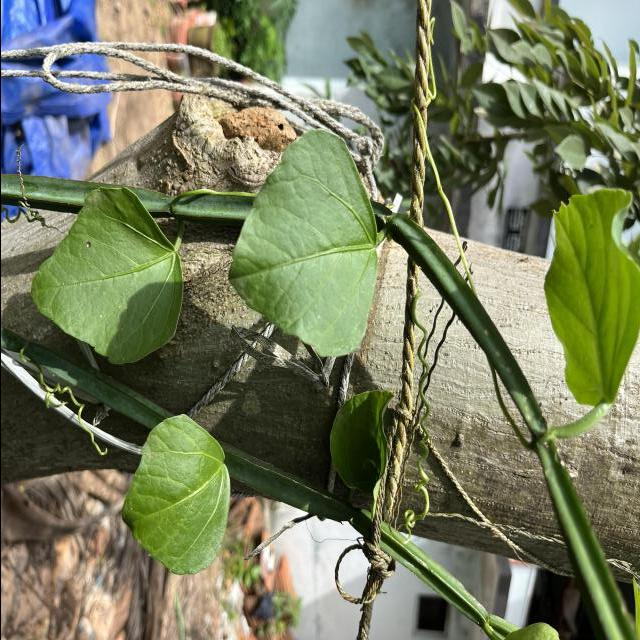Cissus quadrangularis: (28, 183, 186, 370), (118, 411, 235, 579)
